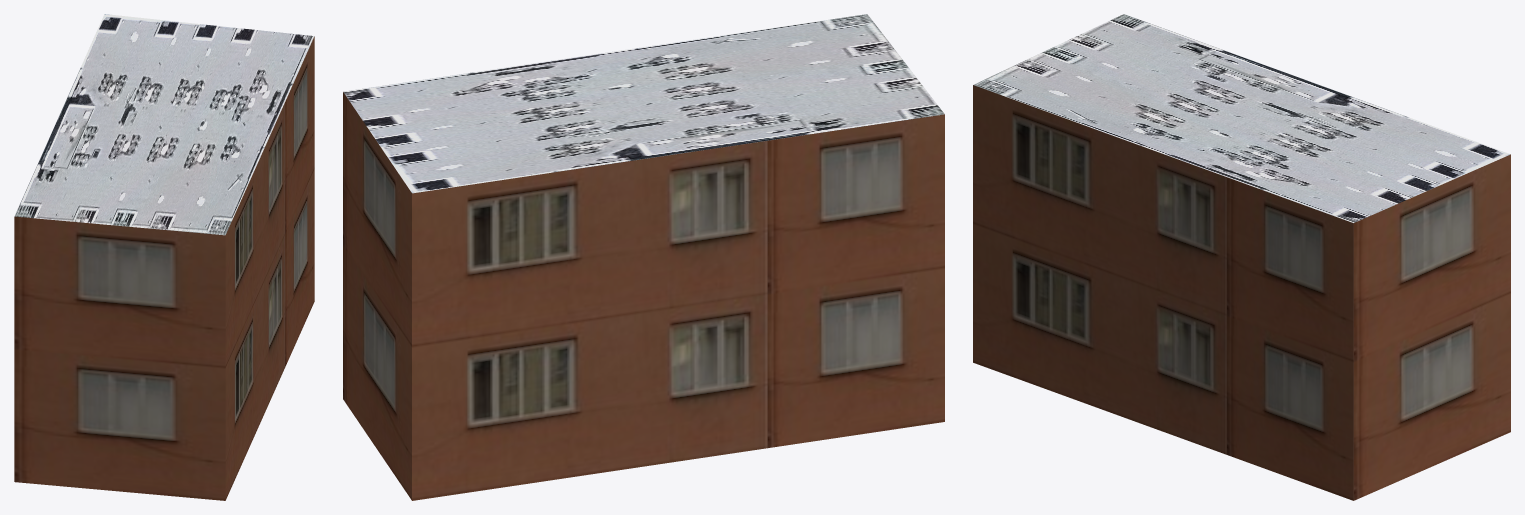
The model's file is ResTex__440.fbx.
The picture shows the model from 3 angles, left to right: view 1: azimuth 30°, elevation 25°; view 2: azimuth 150°, elevation 25°; view 3: azimuth 270°, elevation 25°; orthographic projection. The views are drawn at different scales.
Parts seen in each view (by area): view 1: CityEngineMaterial_20_m, CityEngineMaterial_m; view 2: CityEngineMaterial_20_m, CityEngineMaterial_m; view 3: CityEngineMaterial_20_m, CityEngineMaterial_m.
Boxes of the visible parts, x1,y1,x2,y2 form: CityEngineMaterial_20_m: [14, 36, 314, 500]; CityEngineMaterial_m: [14, 14, 314, 235]; CityEngineMaterial_20_m: [343, 92, 944, 500]; CityEngineMaterial_m: [343, 14, 944, 193]; CityEngineMaterial_20_m: [973, 85, 1510, 500]; CityEngineMaterial_m: [973, 14, 1510, 222].
Bounding box in the file's own units: 9.69 × 6 × 10.53.
Materials: 2 (2 with a texture image).
